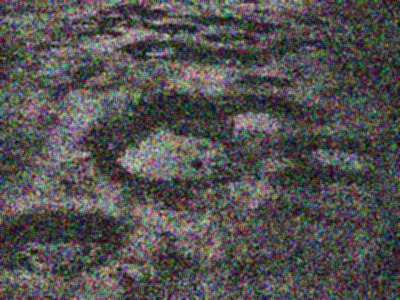pothole: (87, 98, 244, 190), (0, 210, 122, 274), (274, 205, 361, 281), (282, 170, 382, 210), (225, 95, 330, 132), (281, 136, 381, 173), (195, 47, 265, 70), (268, 34, 323, 61), (117, 39, 186, 60), (235, 74, 297, 91), (242, 21, 284, 36), (152, 22, 199, 35), (196, 15, 243, 27), (87, 29, 121, 39), (140, 8, 164, 16), (104, 16, 129, 22), (113, 4, 136, 10)
